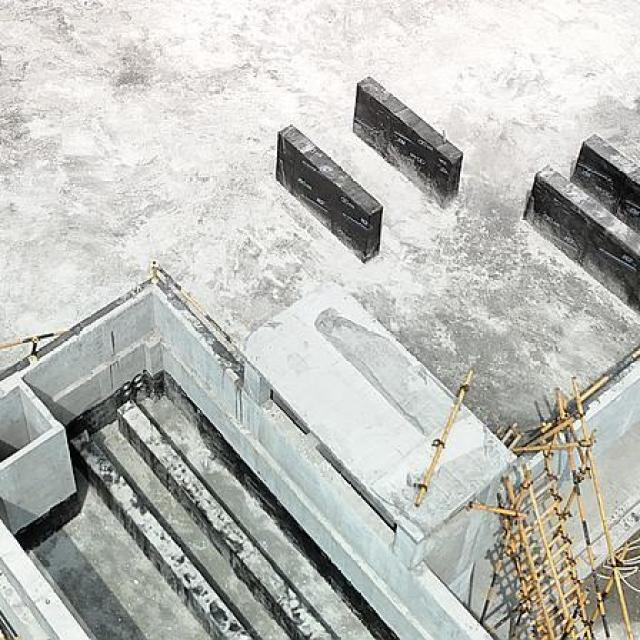edge_guardrail: (152, 260, 235, 344), (580, 346, 640, 404), (0, 329, 61, 354)
